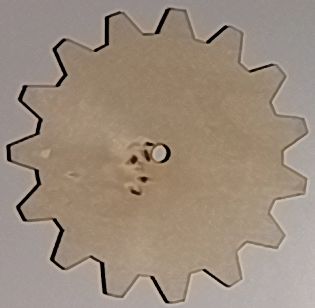Points: (141, 149, 151, 163), (125, 156, 140, 165), (129, 187, 142, 197), (138, 175, 151, 184), (143, 140, 156, 148)
